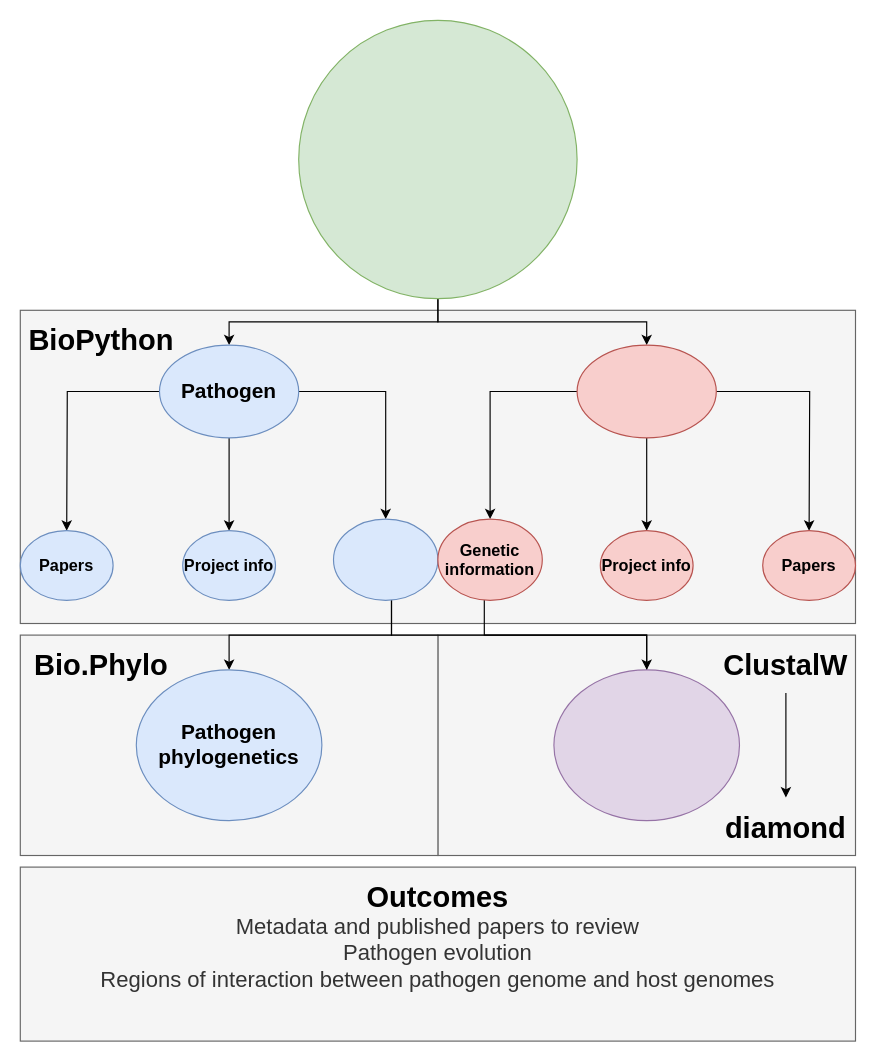
This 876x1061 diagram has some shape labels left out. The shapes that lost their labels are listed below. From the top down, each one's centre as x and y in pixels, then its label:
point (437, 159): NCBI
point (646, 391): Host
point (385, 559): Genetic infromation
point (646, 745): Mapped Genomes
